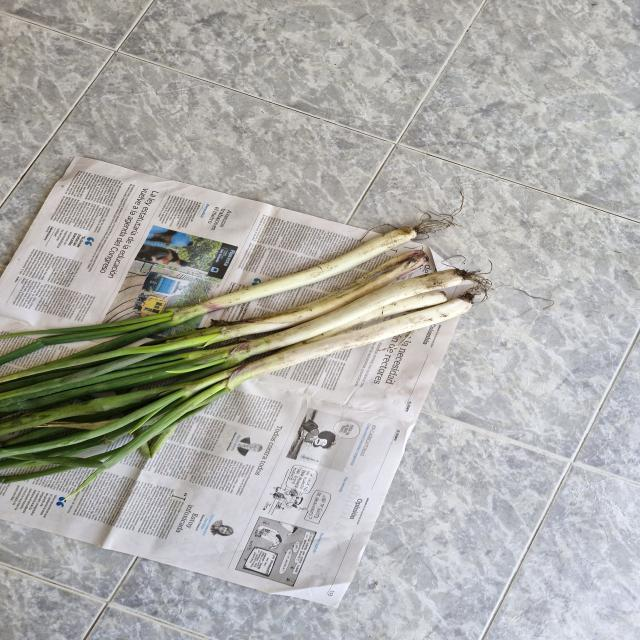green_onion: (0, 220, 487, 477)
